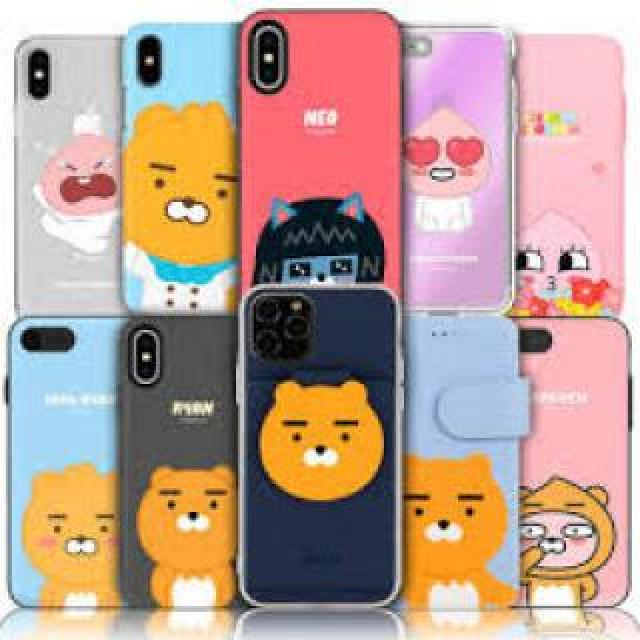smart phone: (240, 288, 398, 628), (243, 5, 400, 285), (398, 317, 528, 625), (113, 4, 237, 318), (397, 10, 518, 308), (512, 11, 630, 316), (520, 308, 630, 615), (132, 306, 242, 612), (13, 34, 124, 308), (12, 317, 110, 620)
